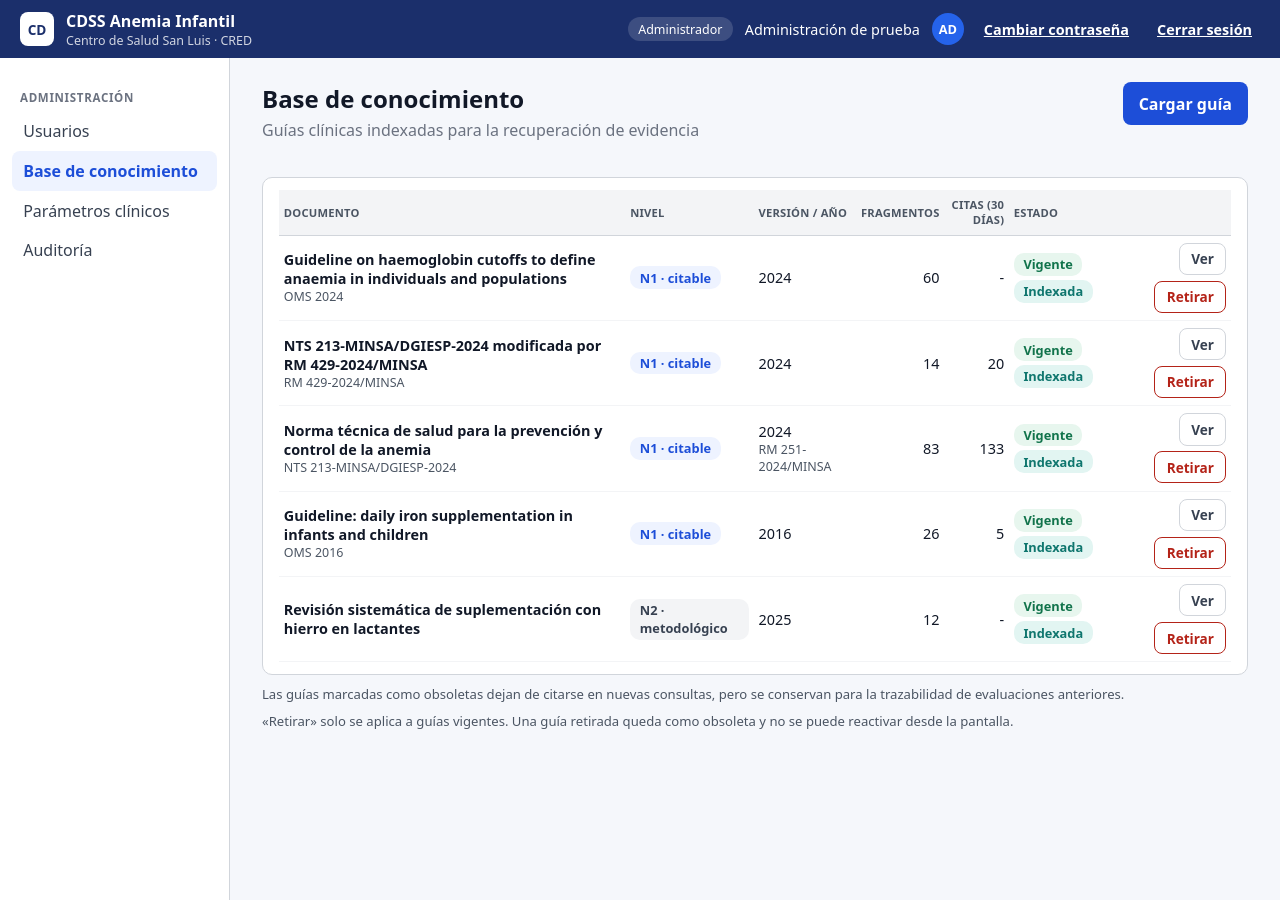
Test: M11 · ventana de retiro › nivel 1 con referencias: lista que bloquea, sin motivo y «Retirar» deshabilitado con la explicación
The image size is (1280, 900).
Expected: the element named "Guías de la base de conocimiento" is shown, left=279, top=190, right=1231, bottom=662
Step 1. Click the button "Retirar" in the row of "RM 251-2024/MINSA" → (1190, 467), box left=1154, top=451, right=1226, bottom=483
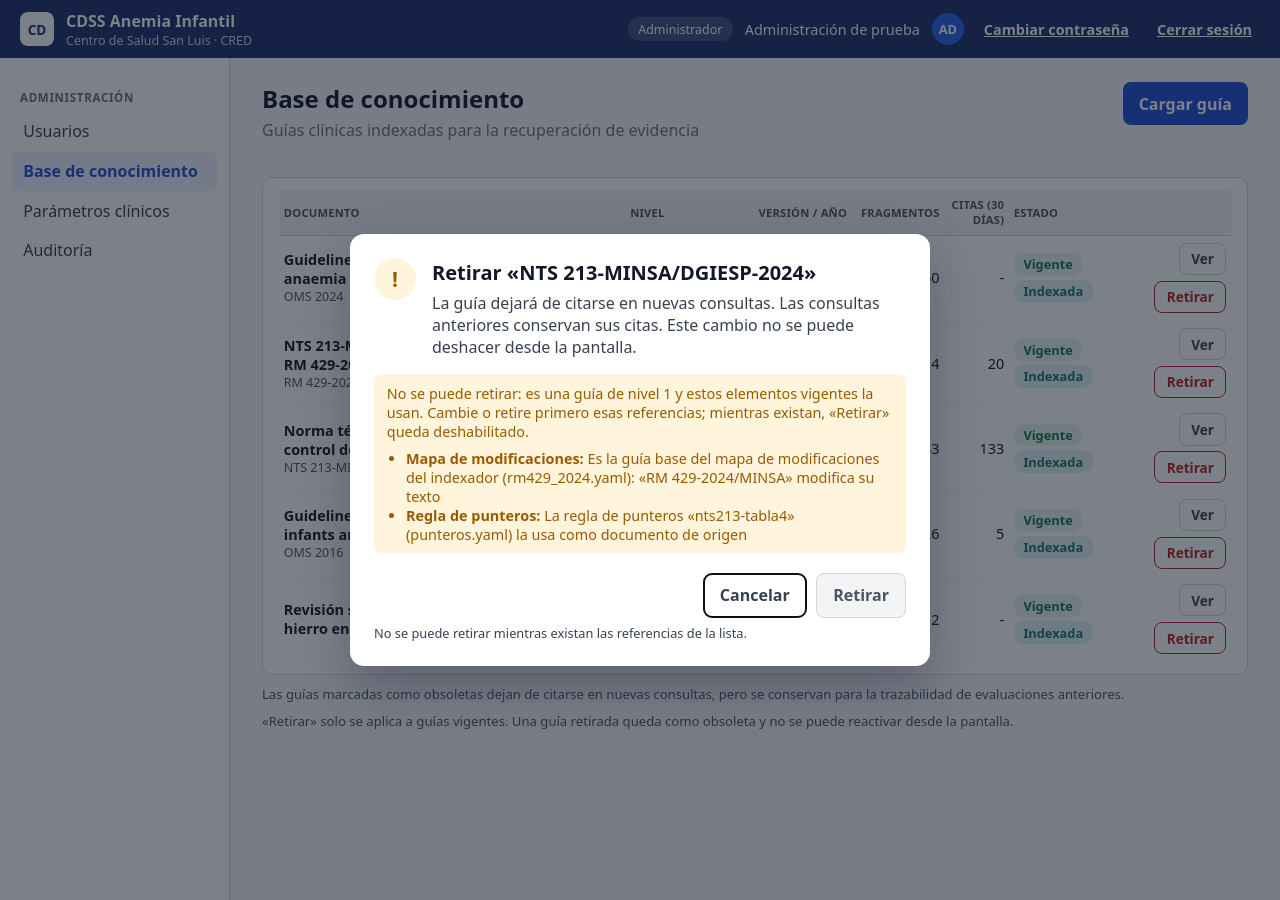
Step 2. Click the button "Cancelar" → (755, 596), box left=703, top=573, right=807, bottom=618
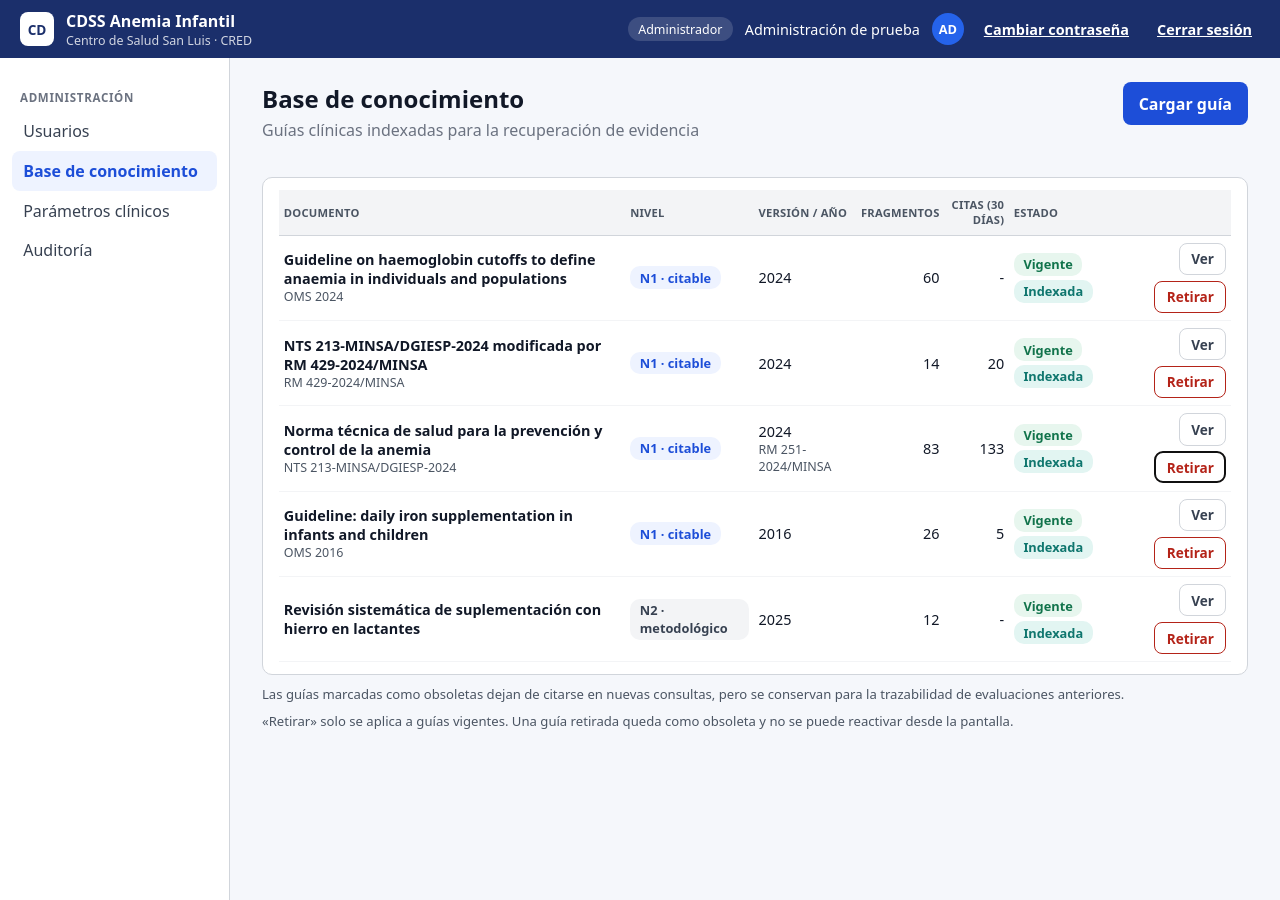
Now the dialog is gone
